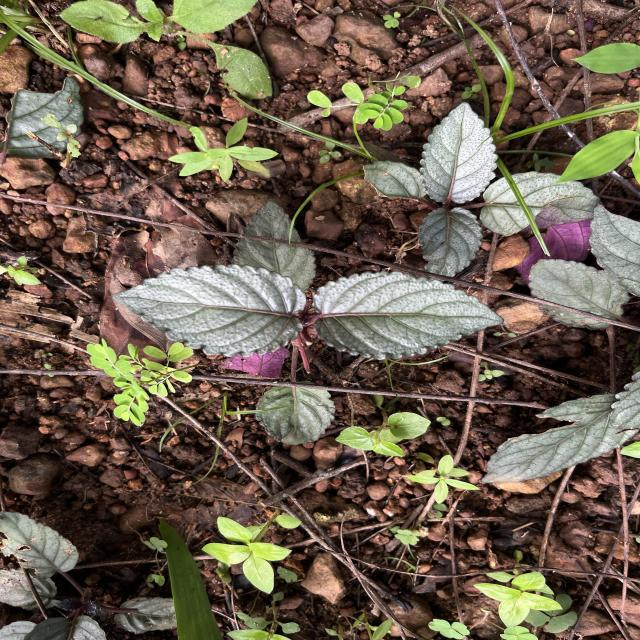Hemigraphis colorata: (109, 262, 309, 361), (308, 269, 508, 364), (478, 392, 640, 485), (418, 100, 500, 206), (478, 170, 602, 238), (229, 199, 319, 292), (526, 258, 630, 332), (252, 379, 338, 447), (587, 202, 640, 300), (416, 206, 486, 280)
